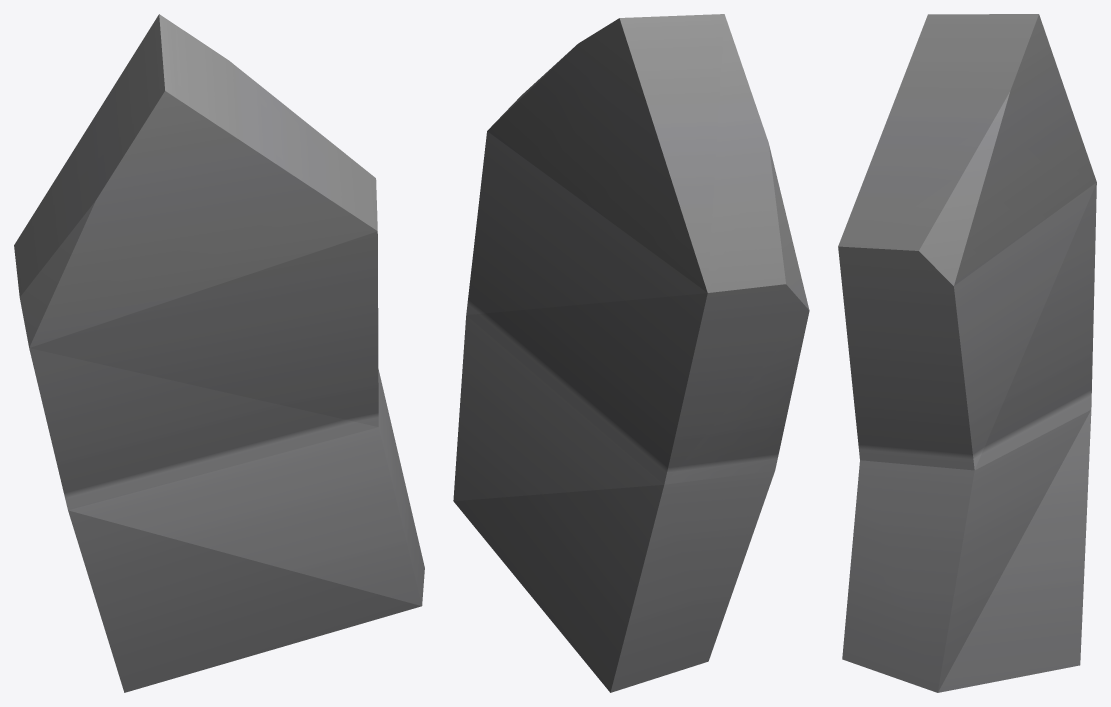
Rendered from ea_grave_stone_mini_01c_pre__27__lev1.glb.
The picture shows the model from 3 angles, left to right: view 1: azimuth 30°, elevation 25°; view 2: azimuth 150°, elevation 25°; view 3: azimuth 270°, elevation 25°; orthographic projection.
Parts seen in each view (by area): view 1: ea_grave_stone_mini_01c_pre__27__lev1; view 2: ea_grave_stone_mini_01c_pre__27__lev1; view 3: ea_grave_stone_mini_01c_pre__27__lev1.
Boxes of the visible parts, box(x1,y1,x2,y2) form: ea_grave_stone_mini_01c_pre__27__lev1: box(14, 14, 424, 692); ea_grave_stone_mini_01c_pre__27__lev1: box(453, 14, 809, 692); ea_grave_stone_mini_01c_pre__27__lev1: box(838, 14, 1096, 692).
Size of the model in its own units: 1.06 by 1.77 by 0.6327.
Materials: 1 (1 with a texture image).
